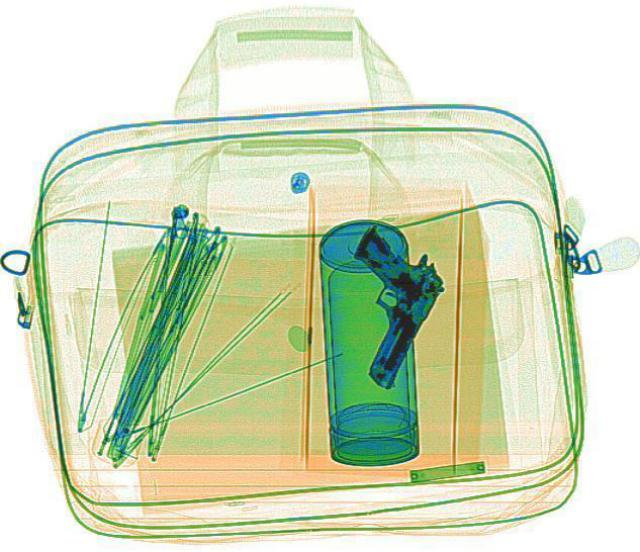Gun: (292, 223, 458, 387)
